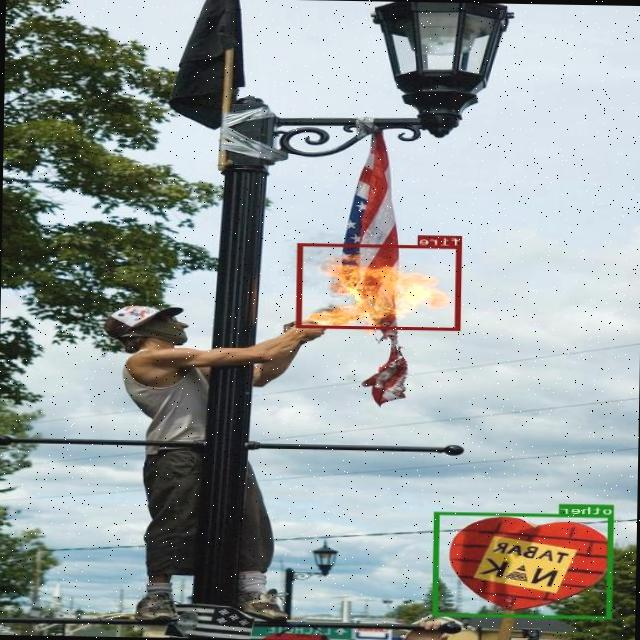fire: (297, 242, 462, 330)
